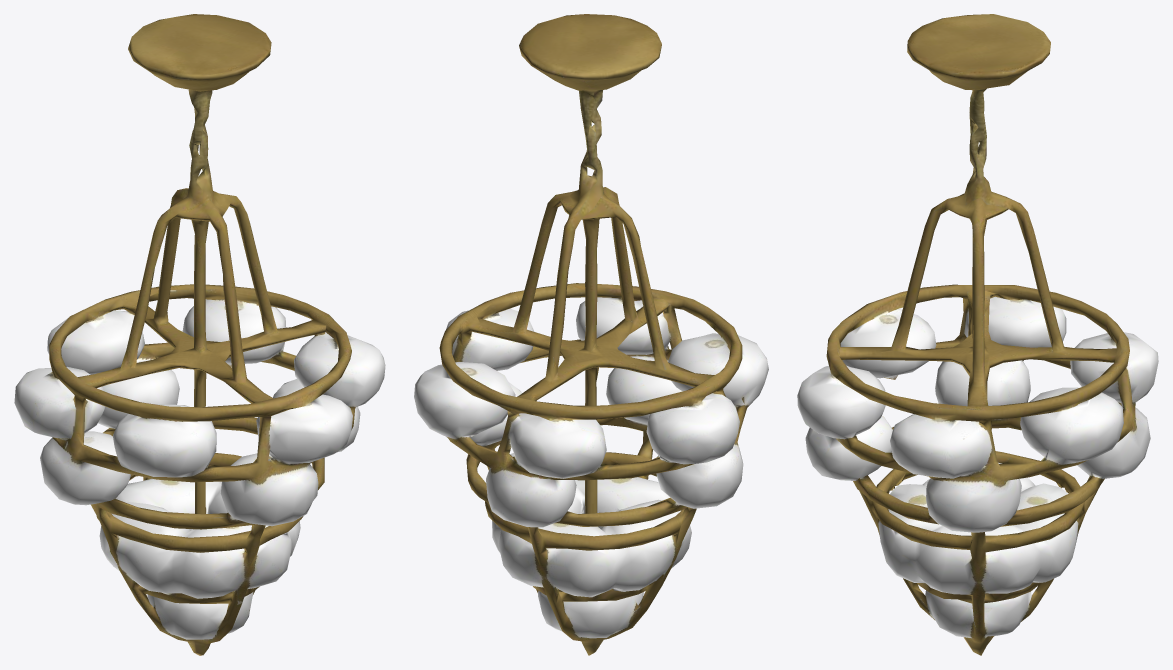
The model's file is chandelier_ring.glb.
The picture shows the model from 3 angles, left to right: view 1: azimuth 30°, elevation 25°; view 2: azimuth 150°, elevation 25°; view 3: azimuth 270°, elevation 25°; orthographic projection.
Bounding box in the file's own units: 0.5467 × 1.01 × 0.5363.
1 material, 1 textured.
